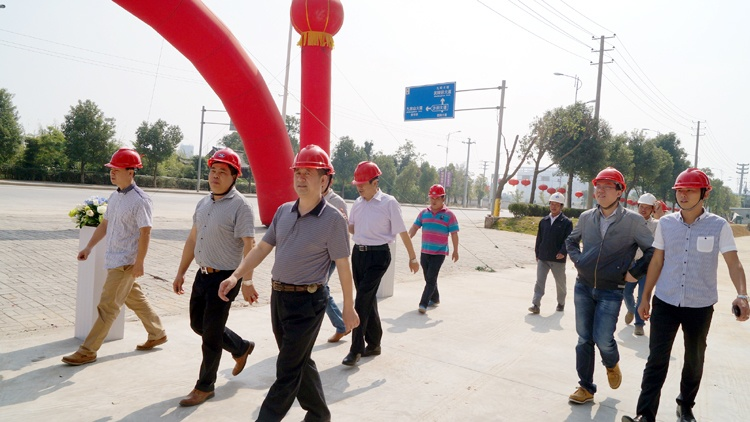red: (291, 143, 328, 200), (671, 166, 710, 212), (106, 147, 145, 189), (206, 147, 240, 194), (594, 167, 625, 206), (352, 157, 381, 197), (425, 182, 446, 208)
white: (634, 191, 656, 218), (547, 192, 566, 215)
